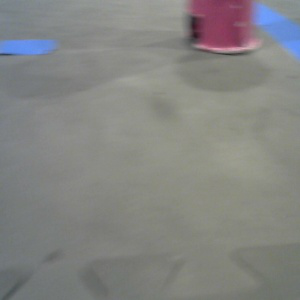right: (185, 1, 261, 55)
